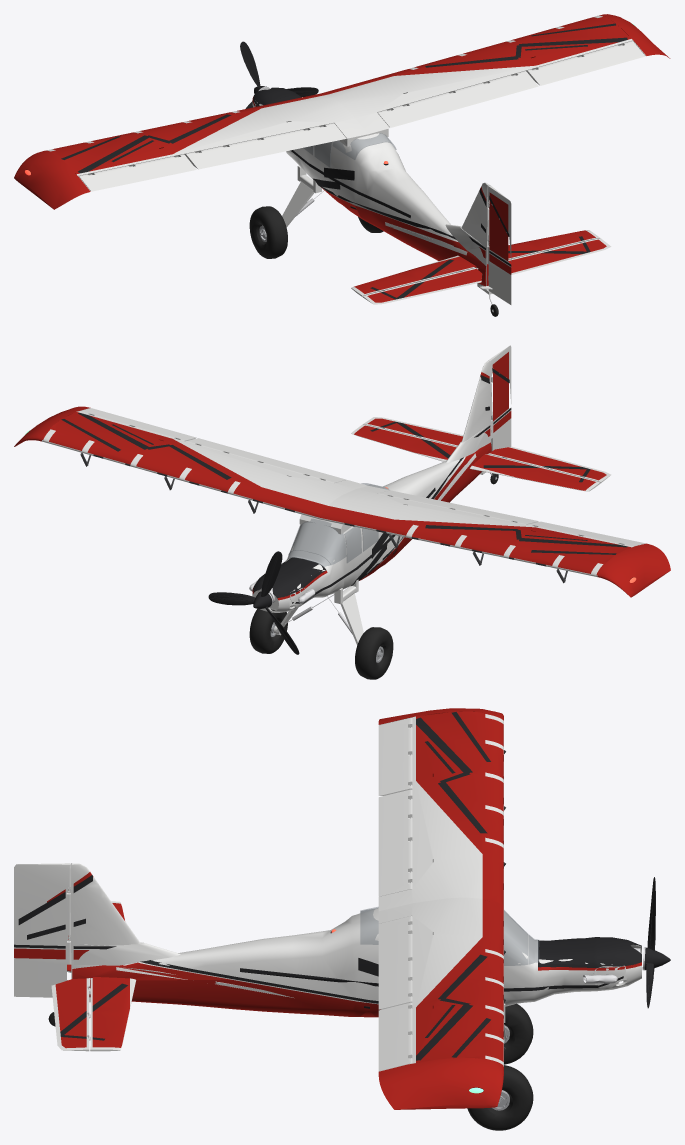
The model's file is timber.glb.
3 views of the same model, one above another, from view 1: azimuth 30°, elevation 25°; view 2: azimuth 150°, elevation 25°; view 3: azimuth 270°, elevation 25° (orthographic). The views are drawn at different scales.
Visible parts, largest first — view 1: wing_left_fixed, fuselage_core, wing_right_fixed, elevator, flap_right, stabilizer_fixed, flap_left, rudder, aileron_right, aileron_left, fin_fixed, wheel_left (+4 smaller); view 2: wing_left_fixed, wing_right_fixed, fuselage_core, stabilizer_fixed, canopy_glass, elevator, rudder, fin_fixed, wheel_left, propeller_rotor, cowl, wheel_right (+5 smaller); view 3: fuselage_core, wing_right_fixed, wing_left_fixed, rudder, fin_fixed, flap_left, flap_right, stabilizer_fixed, elevator, aileron_left, cowl, wheel_right (+4 smaller).
Part boxes in pixels (box(x1,y1,x2,y2)): wing_left_fixed: box(14, 93, 368, 209); fuselage_core: box(266, 95, 492, 294); wing_right_fixed: box(322, 14, 670, 133); elevator: box(363, 238, 611, 304); flap_right: box(377, 71, 538, 127); stabilizer_fixed: box(351, 230, 599, 297); flap_left: box(184, 123, 346, 169); rudder: box(479, 185, 511, 304); aileron_right: box(526, 41, 645, 85); aileron_left: box(78, 154, 196, 191); fin_fixed: box(445, 182, 489, 289); wheel_left: box(249, 206, 287, 258); wing_left_fixed: box(318, 486, 670, 597); wing_right_fixed: box(14, 406, 368, 519); fuselage_core: box(279, 442, 491, 604); stabilizer_fixed: box(351, 424, 600, 491); canopy_glass: box(288, 483, 388, 566); elevator: box(363, 417, 611, 483); rudder: box(488, 345, 511, 451); fin_fixed: box(445, 361, 491, 474); wheel_left: box(355, 627, 393, 679); propeller_rotor: box(208, 551, 299, 654); cowl: box(249, 572, 315, 612); wheel_right: box(249, 608, 287, 653); fuselage_core: box(72, 908, 596, 1022); wing_right_fixed: box(378, 897, 505, 1109); wing_left_fixed: box(378, 708, 505, 910); rudder: box(14, 863, 71, 997); fin_fixed: box(68, 863, 180, 999); flap_left: box(378, 789, 412, 896); flap_right: box(378, 916, 412, 1009); stabilizer_fixed: box(88, 901, 136, 1051); elevator: box(51, 936, 90, 1051); aileron_left: box(378, 718, 412, 795); cowl: box(583, 937, 641, 991); wheel_right: box(467, 1065, 533, 1130).
Size of the model in its own units: 1.55 by 0.434 by 1.12.
